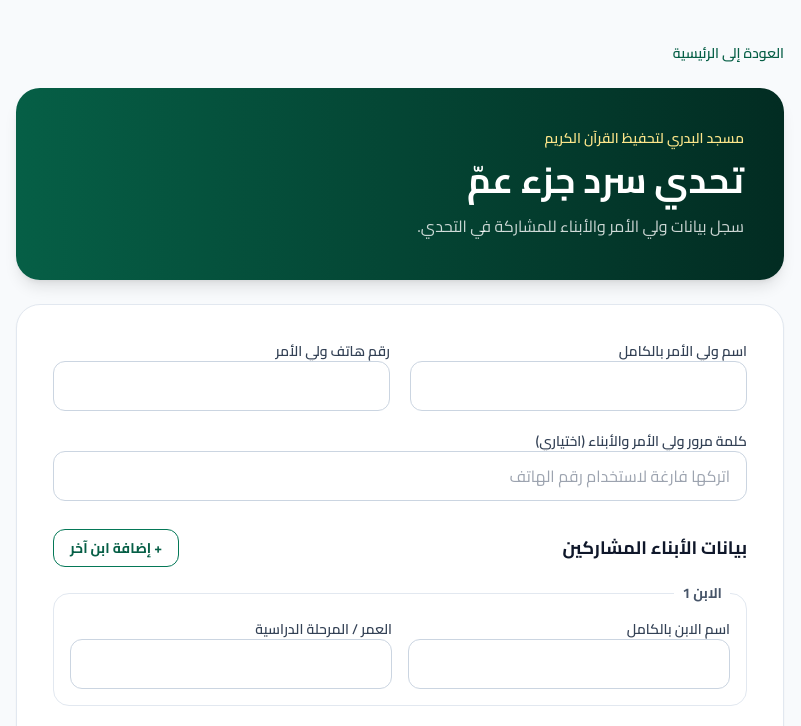
Scenario: clearly displays a registration conflict message returned by the API
The image size is (801, 726).
In the field labelled "اسم ولي الأمر بالكامل": (578, 386) [410, 361, 747, 411], type "Mona Ali"
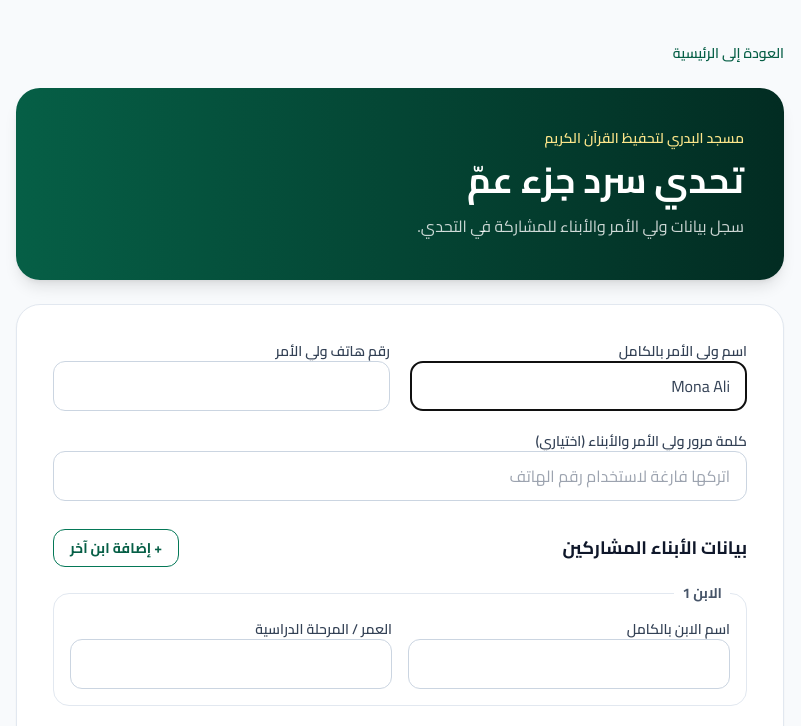
In the field labelled "رقم هاتف ولي الأمر": (222, 386) [53, 361, 390, 411], type "01001234567"
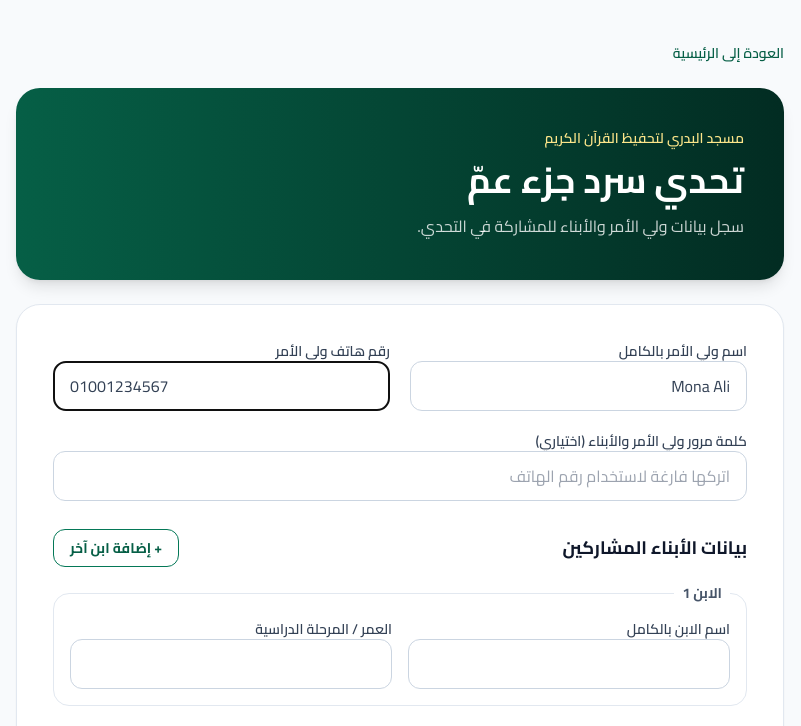
In the field labelled "اسم الابن بالكامل": (569, 664) [408, 639, 730, 689], type "Sara Ali"
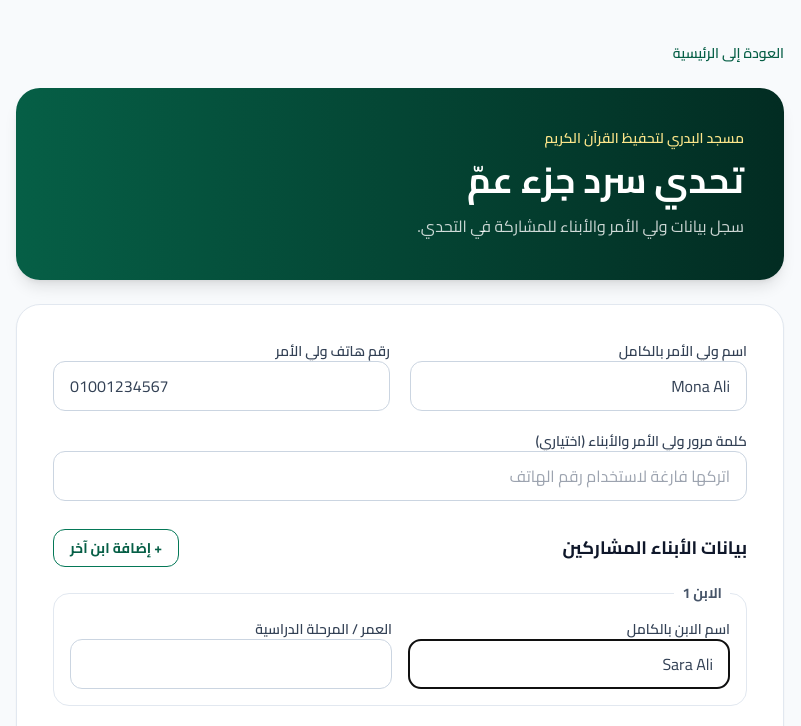
In the field labelled "العمر / المرحلة الدراسية": (231, 664) [70, 639, 392, 689], type "9 سنوات"
(page scrolled)
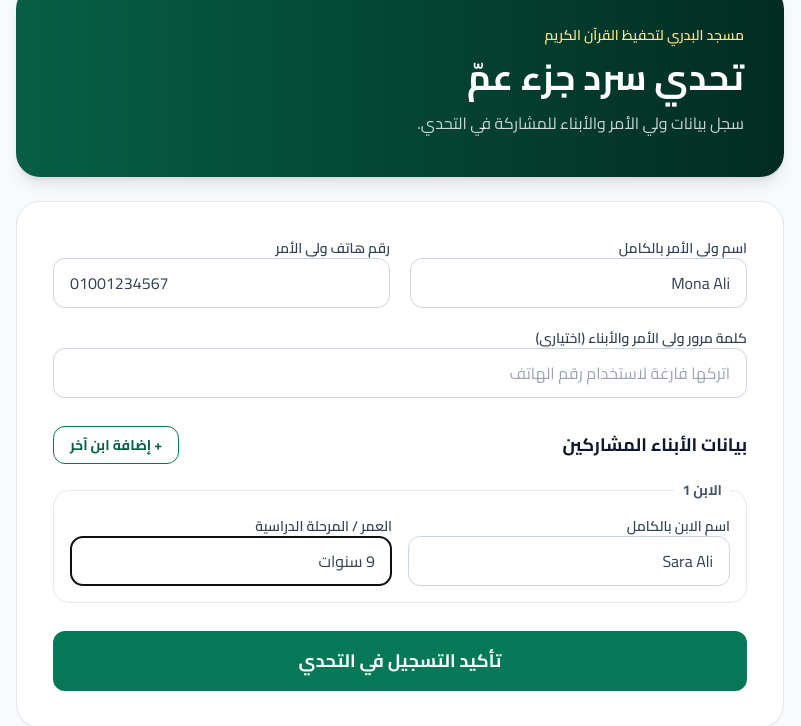
Click the button "تأكيد التسجيل في التحدي": (400, 661) [53, 631, 747, 691]
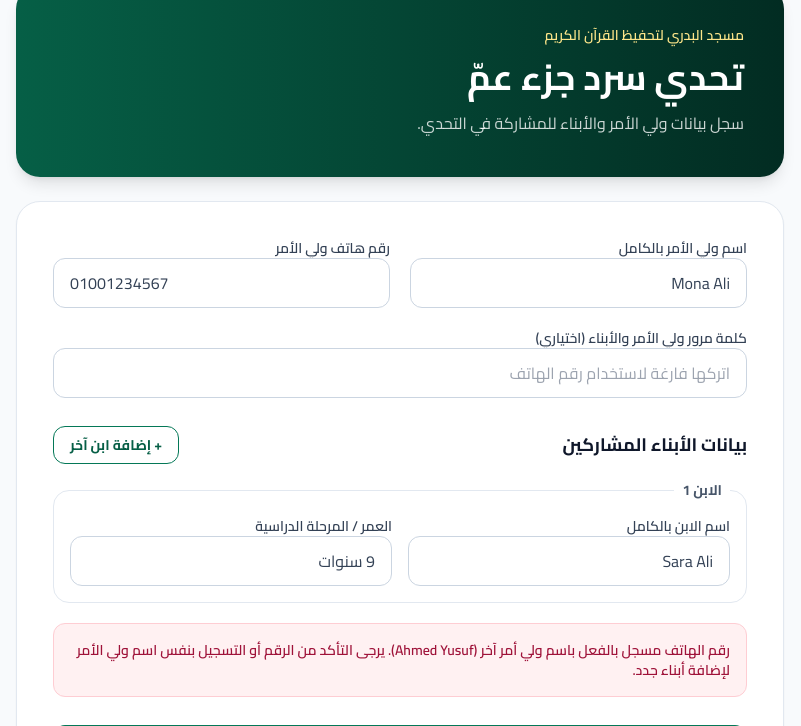
Result: the message shows "رقم الهاتف مسجل بالفعل باسم ولي أمر آخر (Ahmed Yusuf). يرجى التأكد من الرقم أو التسجيل بنفس اسم ولي الأمر لإضافة أبناء جدد." at [77, 637, 730, 683]
